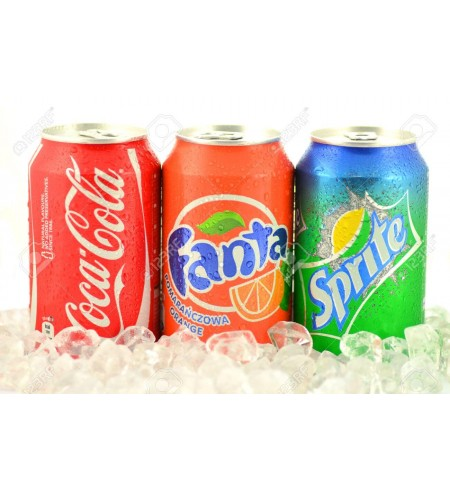Coca-Cola: (26, 131, 164, 342)
Fanta: (159, 134, 296, 345)
Sprite: (303, 132, 440, 343)
